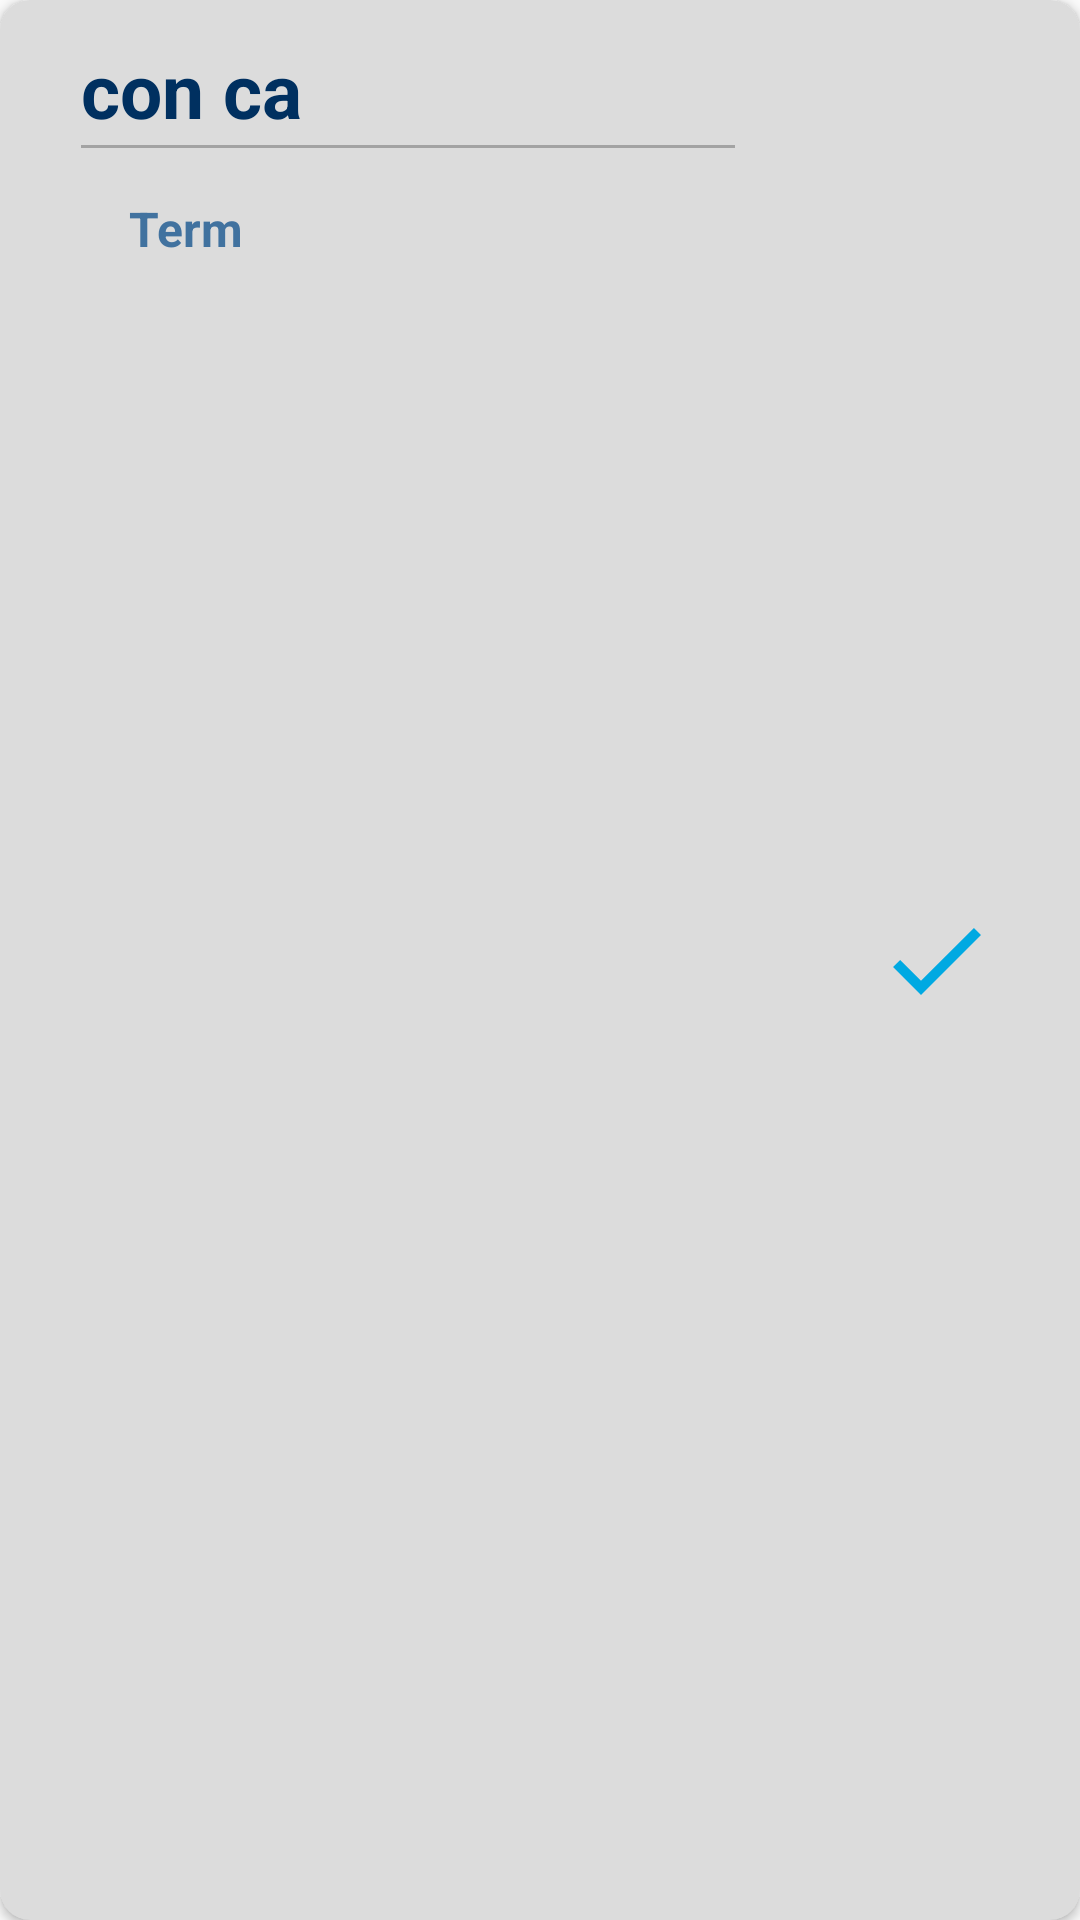

Named icons in this screenshot (1080*1920) and their centers, (x=x, y=y):
check: (x=937, y=961)
